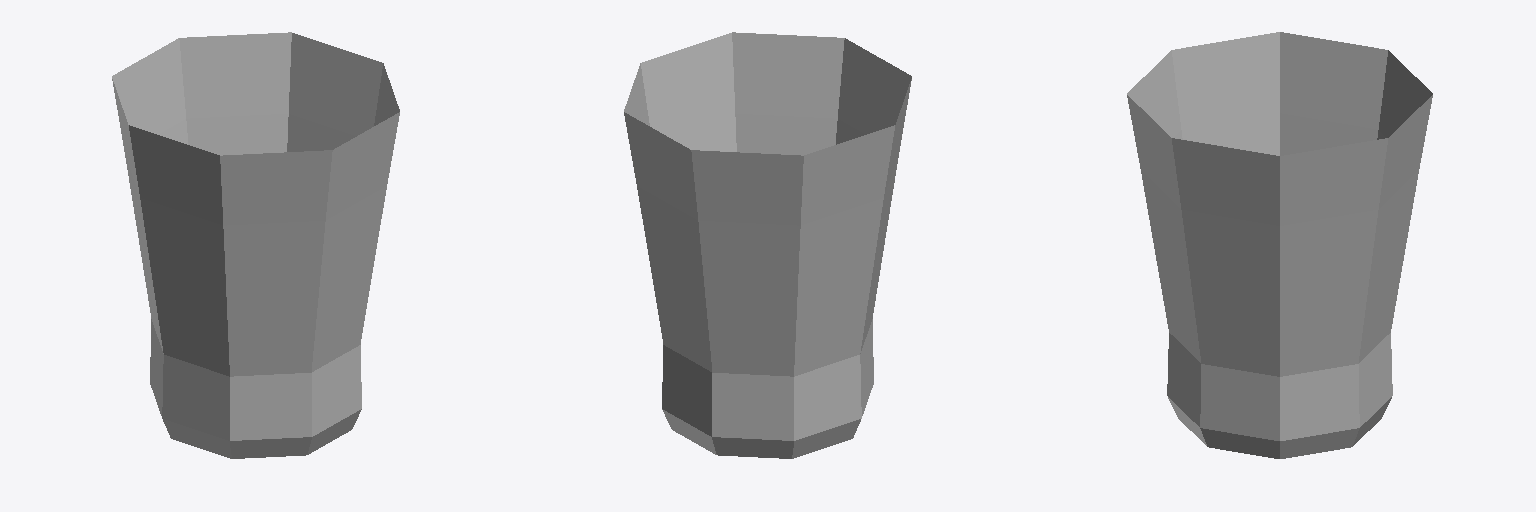
Rendered from sercups_shot_glass.obj.
The picture shows the model from 3 angles: view 1: azimuth 30°, elevation 25°; view 2: azimuth 150°, elevation 25°; view 3: azimuth 270°, elevation 25°; orthographic projection.
Parts seen in each view (by area): view 1: sercups_shot_glass_Cylinder.115; view 2: sercups_shot_glass_Cylinder.115; view 3: sercups_shot_glass_Cylinder.115.
Part boxes in pixels (x1,y1,x2,y2): sercups_shot_glass_Cylinder.115: (112,32,399,458); sercups_shot_glass_Cylinder.115: (624,32,911,458); sercups_shot_glass_Cylinder.115: (1127,32,1432,458).
Size of the model in its own units: 1.18 by 1.43 by 1.23.